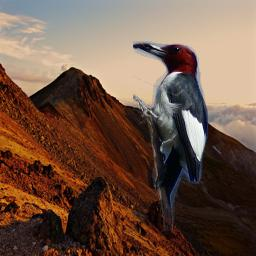Woodpecker: (133, 41, 208, 231)
